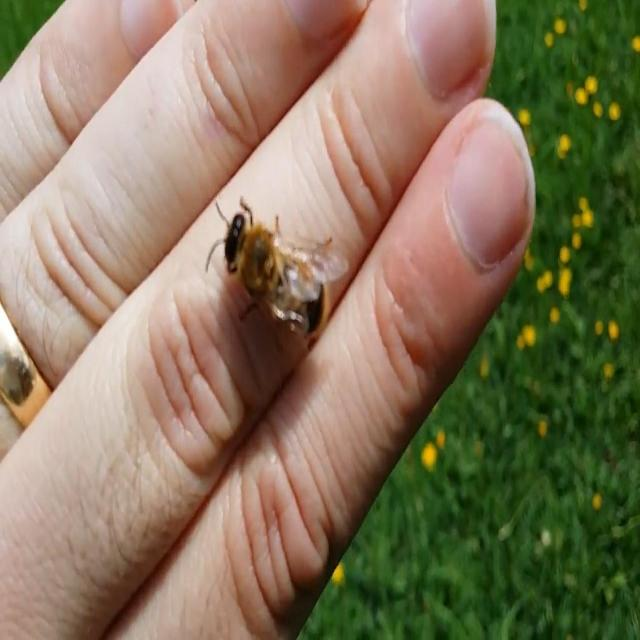honeybee: (218, 185, 340, 355)
